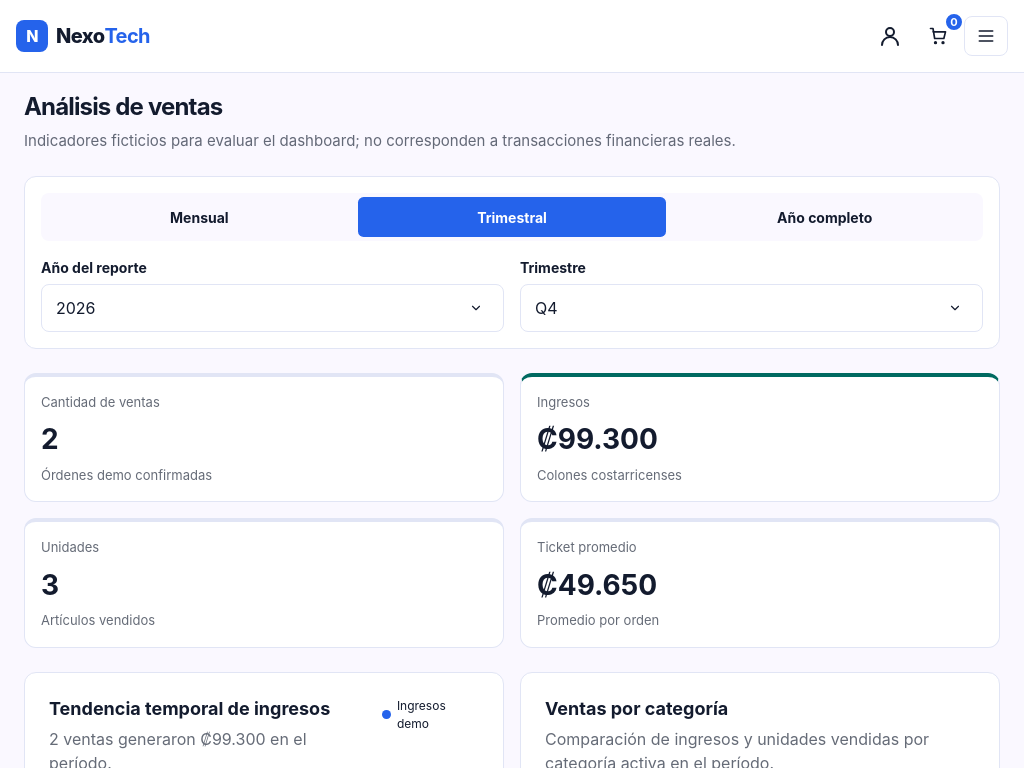
Test: SalesDashboardPage compartido › muestra estado sin datos para un mes vacío
Expected: the heading "Análisis de ventas" is shown, x1=24 y1=92 x2=222 y2=121
Click the button "Mensual".
click(199, 217)  # box x1=45 y1=197 x2=354 y2=237
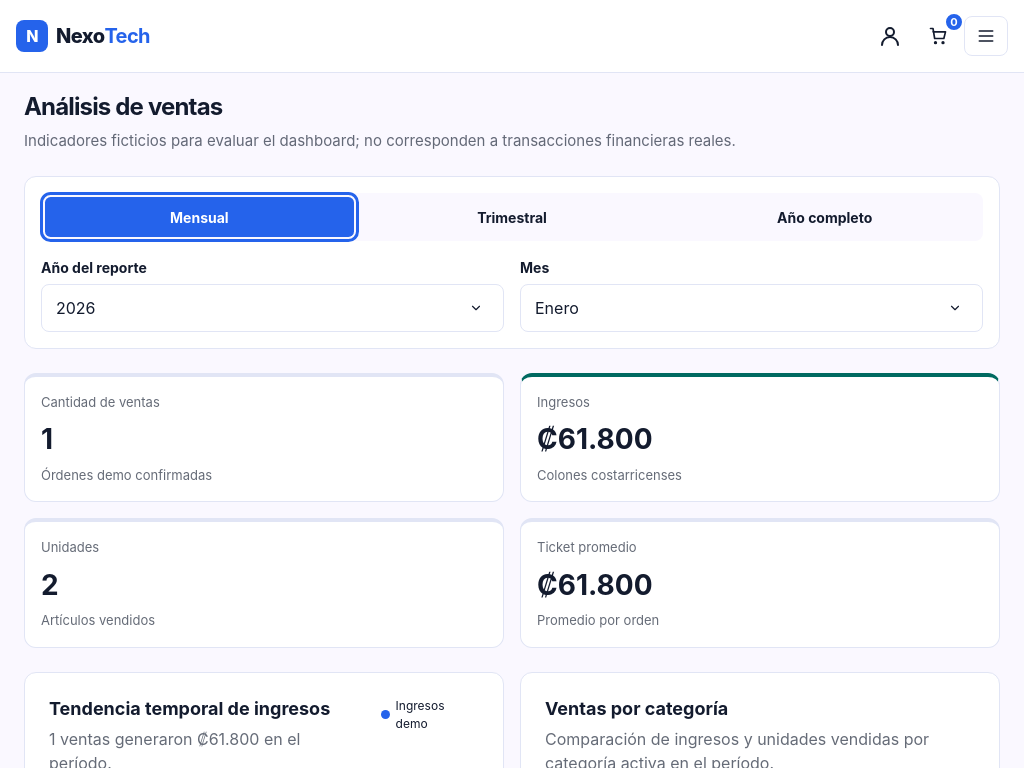
Select "Diciembre" in the dropdown labelled "Mes" at (752, 308), box x1=520 y1=284 x2=983 y2=332
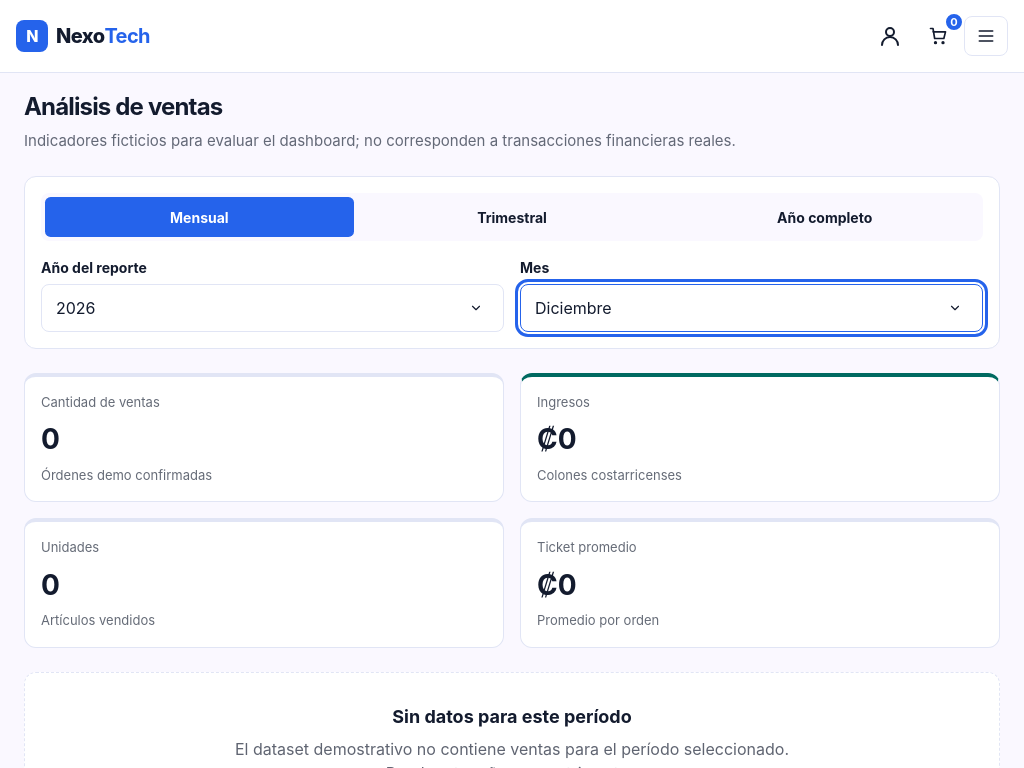
Expected: the heading "Sin datos para este período" is shown, x1=392 y1=705 x2=632 y2=729
